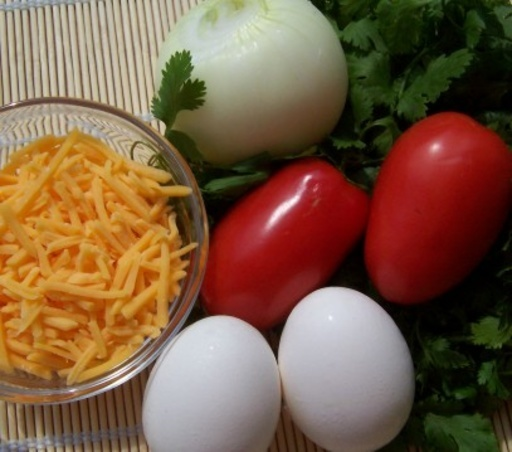background: (113, 0, 409, 319), (0, 88, 159, 273)
